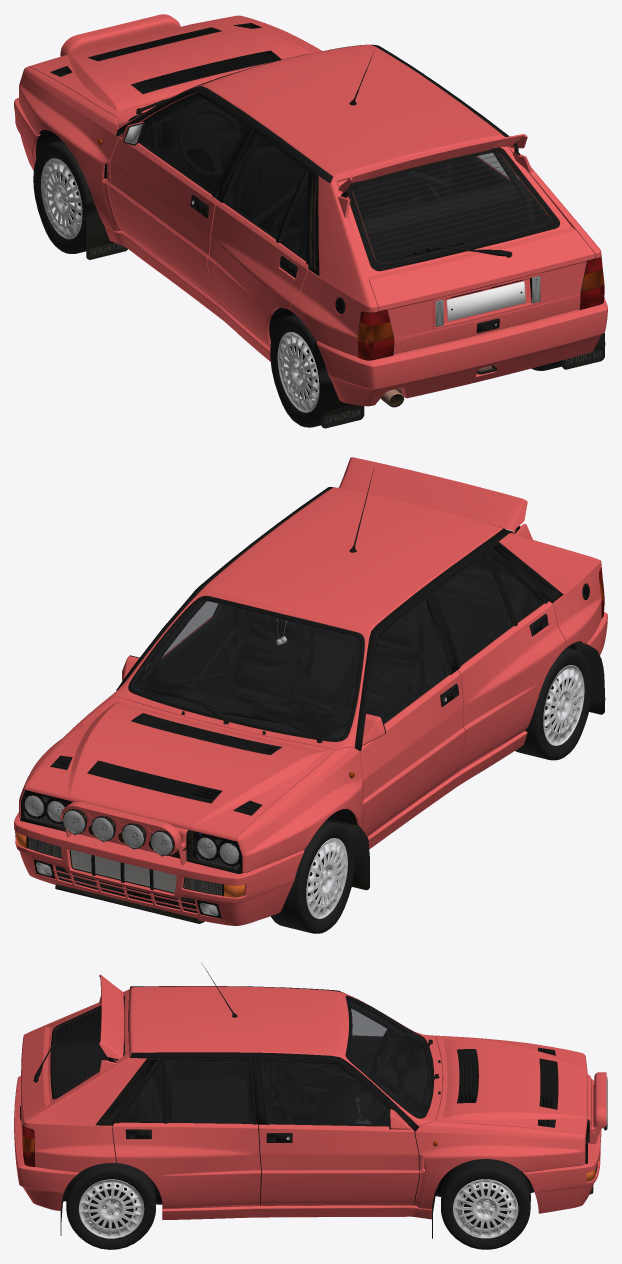
The model's file is delta_evo2.glb.
The picture shows the model from 3 angles, top to bottom: view 1: azimuth 30°, elevation 25°; view 2: azimuth 150°, elevation 25°; view 3: azimuth 270°, elevation 25°; orthographic projection. The views are drawn at different scales.
Parts seen in each view (by area): view 1: Body, Wheel_FL, Wheel_RL, SteeringWheel; view 2: Body, Wheel_FL, Wheel_RL; view 3: Body, Wheel_FR, Wheel_RR, SteeringWheel.
Boxes of the visible parts, x1,y1,x2,y2 form: Body: [14, 14, 607, 428]; Wheel_FL: [33, 140, 89, 253]; Wheel_RL: [270, 315, 321, 427]; SteeringWheel: [178, 107, 241, 177]; Body: [14, 457, 607, 925]; Wheel_FL: [270, 820, 355, 933]; Wheel_RL: [515, 647, 592, 760]; Body: [14, 962, 607, 1238]; Wheel_FR: [441, 1159, 530, 1249]; Wheel_RR: [66, 1162, 155, 1249]; SteeringWheel: [359, 1043, 391, 1092].
Bounding box in the file's own units: 1.71 × 1.73 × 3.93.
Materials: 17 (7 with a texture image).
